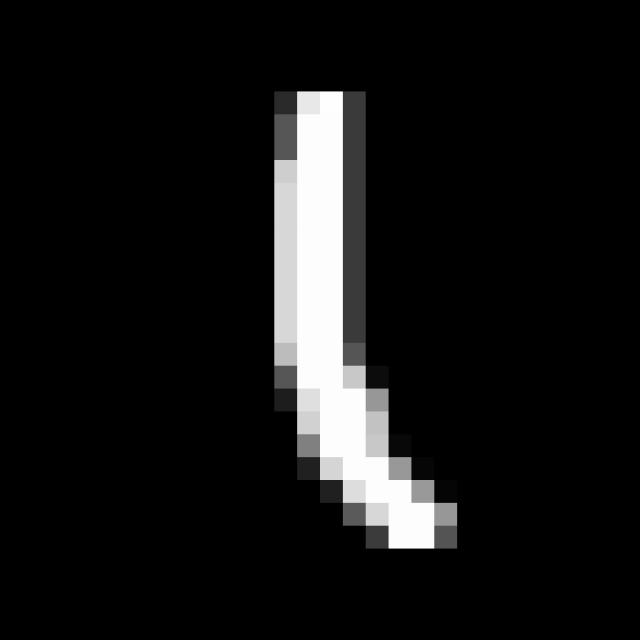one -1-: (242, 71, 469, 566)
